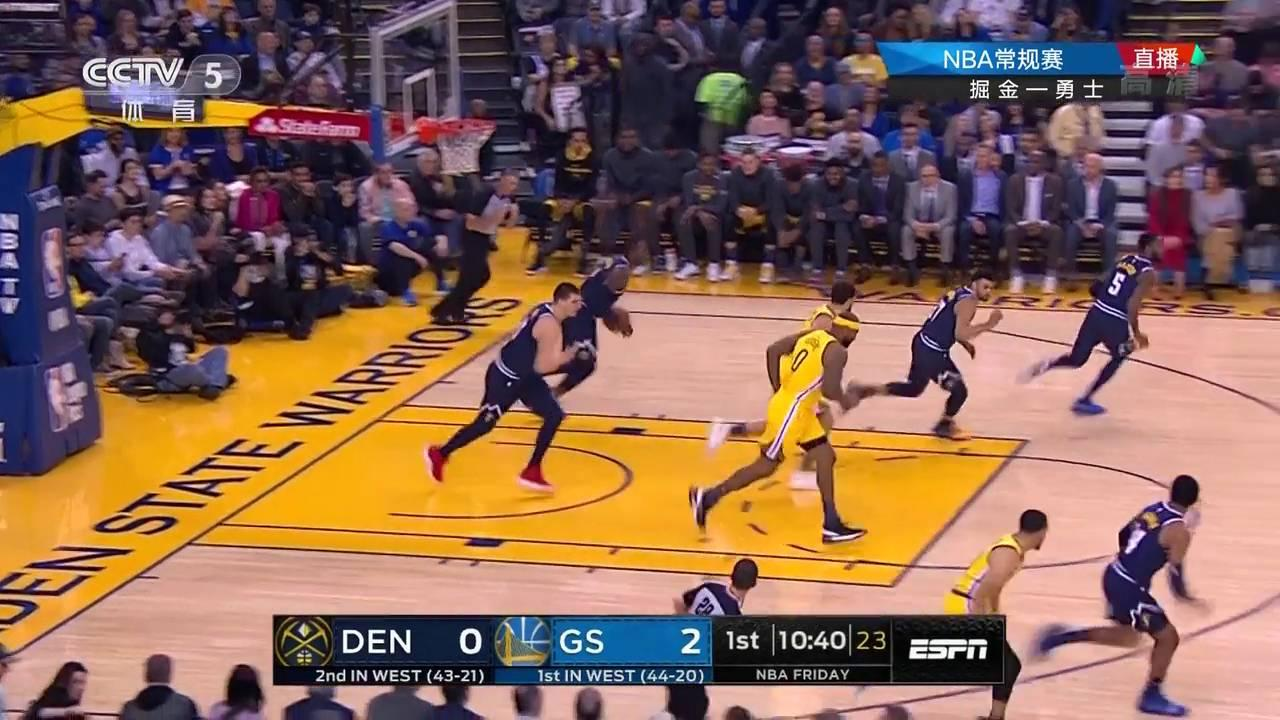basketball: (606, 309, 630, 335)
